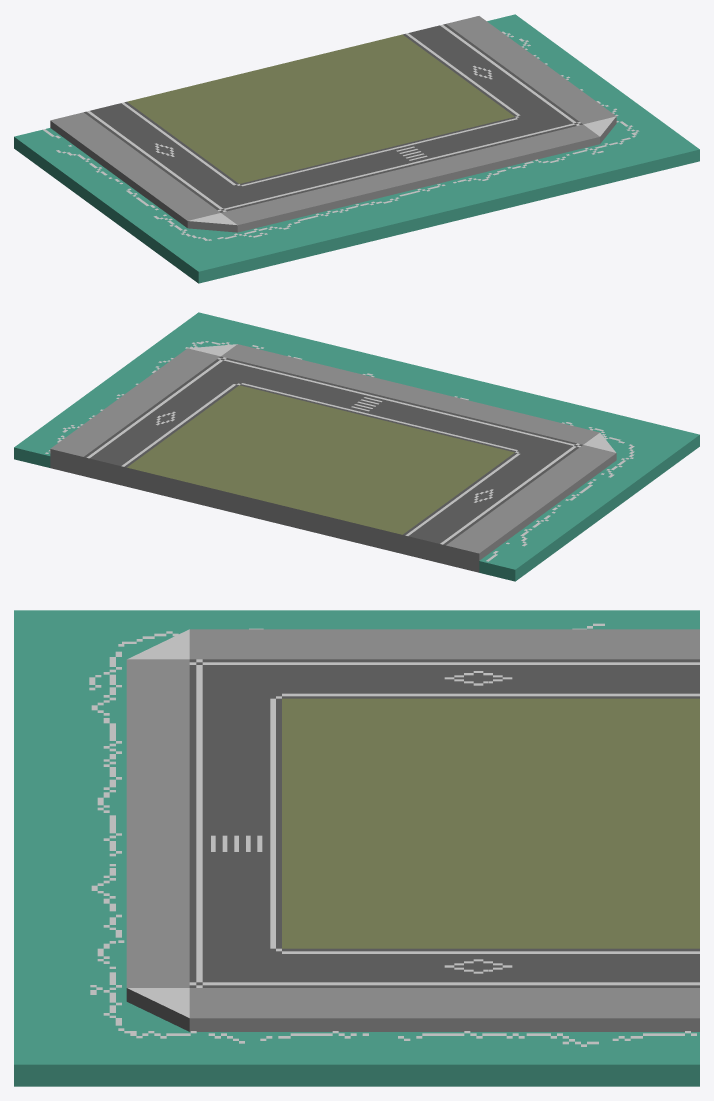
The model's file is Platform.FBX.
3 renders of one model, top to bottom at view 1: azimuth 30°, elevation 25°; view 2: azimuth 150°, elevation 25°; view 3: azimuth 270°, elevation 25°, orthographic. The views are drawn at different scales.
Parts seen in each view (by area): view 1: Platform; view 2: Platform; view 3: Platform.
Boxes of the visible parts, x1,y1,x2,y2 form: Platform: [14, 14, 699, 283]; Platform: [14, 312, 699, 581]; Platform: [14, 610, 699, 1086].
Bounding box in the file's own units: 467 × 17.56 × 298.
1 material, 1 textured.
